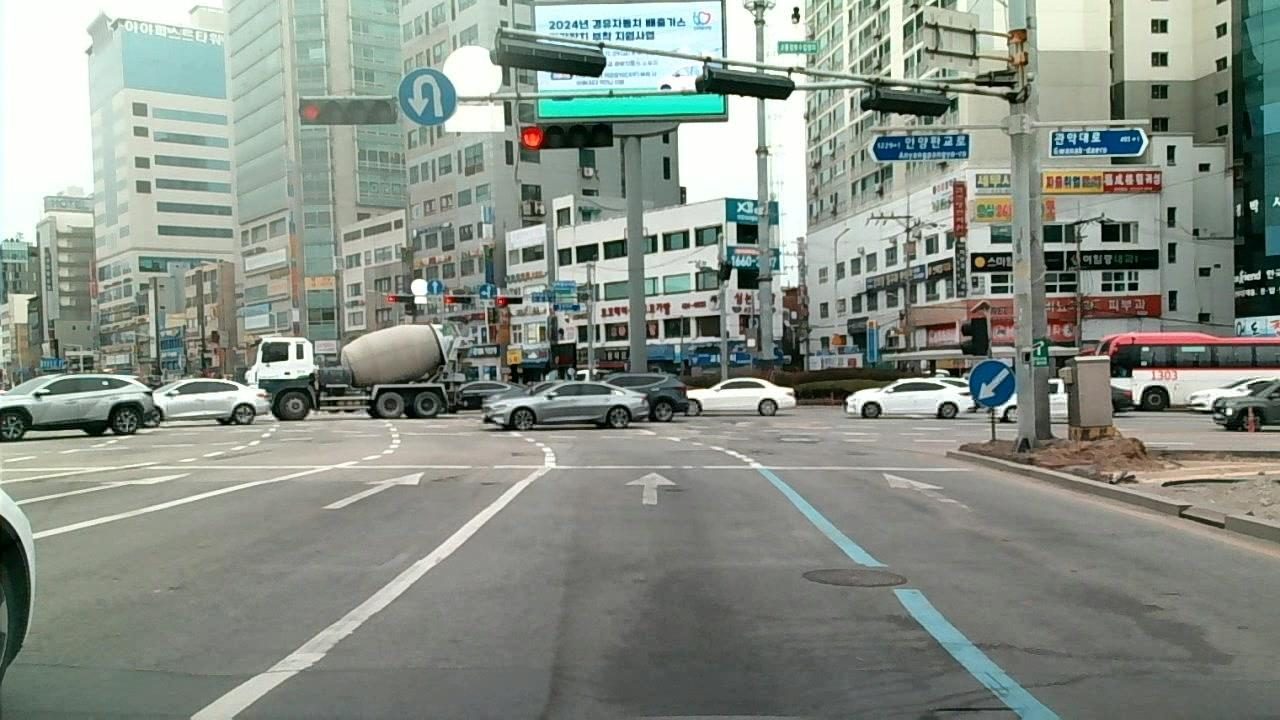hcrack: (153, 666, 329, 680)
